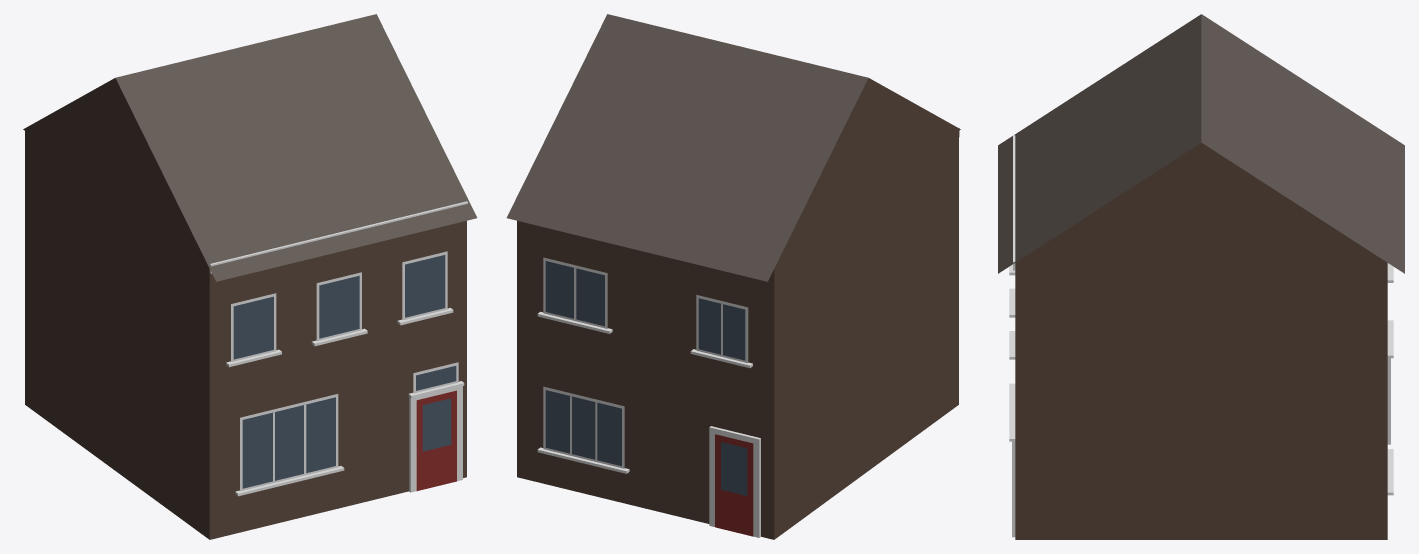
The model's file is nd-to-row__triple__2__gable__long__solid__f1d0__mirror.glb.
3 views of the same model, side by side, from view 1: azimuth 30°, elevation 25°; view 2: azimuth 150°, elevation 25°; view 3: azimuth 270°, elevation 25° (orthographic).
Parts seen in each view (by area): view 1: nd-to-row__triple__2__gable__long__solid__f1d0__mirror; view 2: nd-to-row__triple__2__gable__long__solid__f1d0__mirror; view 3: nd-to-row__triple__2__gable__long__solid__f1d0__mirror.
Boxes of the visible parts, x1,y1,x2,y2 form: nd-to-row__triple__2__gable__long__solid__f1d0__mirror: (23, 14, 477, 539); nd-to-row__triple__2__gable__long__solid__f1d0__mirror: (506, 14, 960, 539); nd-to-row__triple__2__gable__long__solid__f1d0__mirror: (998, 14, 1404, 539).
Bounding box in the file's own units: 6.16 × 8.9 × 8.24.
